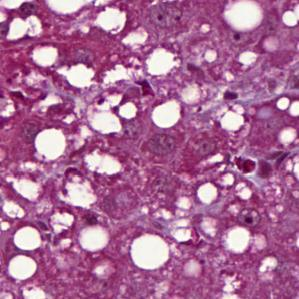ballooning: (84, 86, 142, 137)
